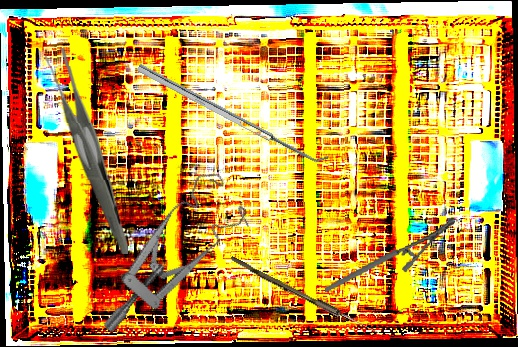Dressing Forceps: (45, 47, 128, 256)
Needle Holder: (316, 217, 463, 293)
Spatula Surgical: (136, 56, 330, 170)
Speculum: (63, 164, 269, 335)
Surgical Spoon: (228, 256, 381, 336)
